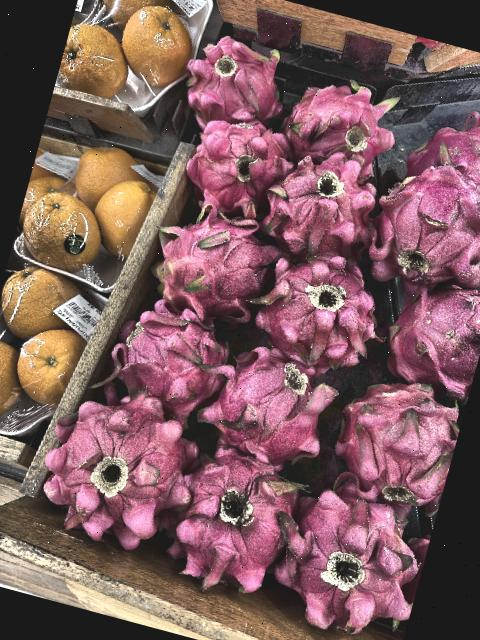buah-naga-matang: (30, 383, 203, 559), (263, 465, 433, 640), (156, 424, 306, 596), (316, 362, 468, 524), (132, 185, 281, 325), (241, 238, 384, 380), (197, 332, 338, 474), (250, 142, 394, 280), (104, 283, 239, 426), (364, 149, 480, 304), (269, 74, 417, 192), (173, 109, 305, 222), (378, 264, 480, 399), (174, 27, 295, 136)
